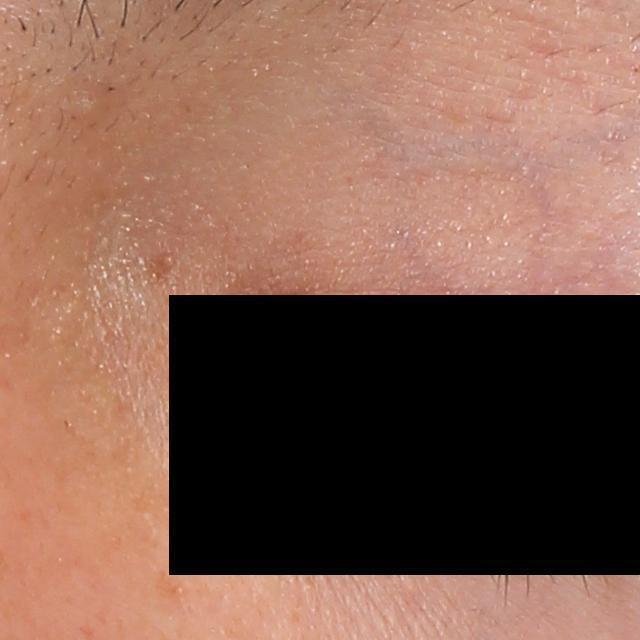comedo: (72, 91, 102, 119)
melasma: (149, 568, 186, 606)
